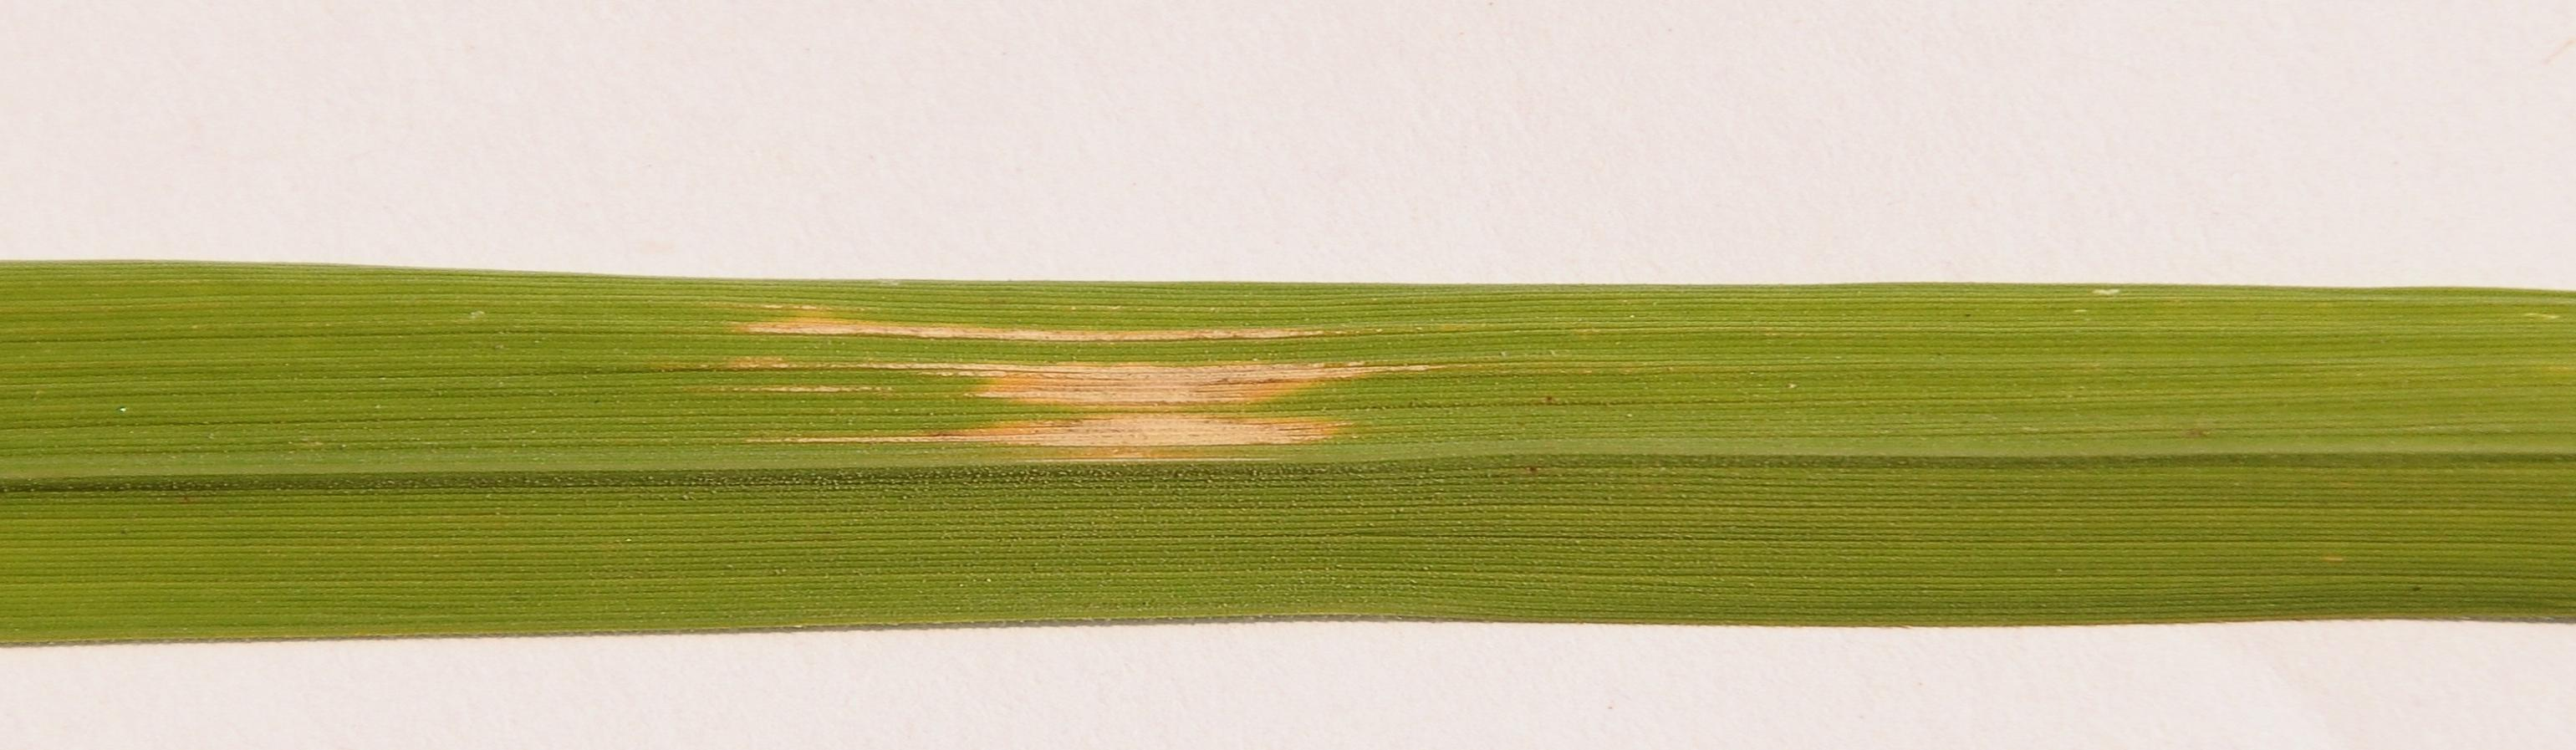bacterial_leaf_blight: (708, 290, 1456, 464)
